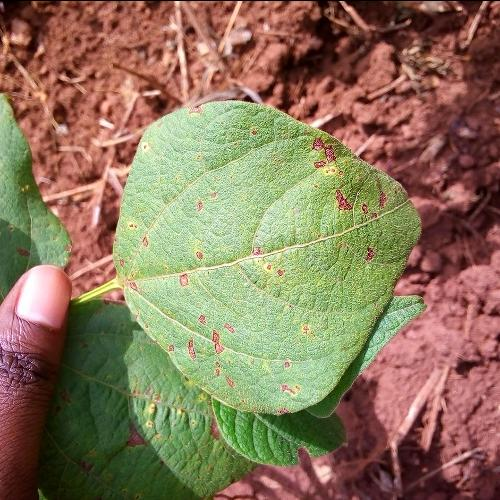hawar: (136, 116, 396, 402), (49, 82, 173, 500)
